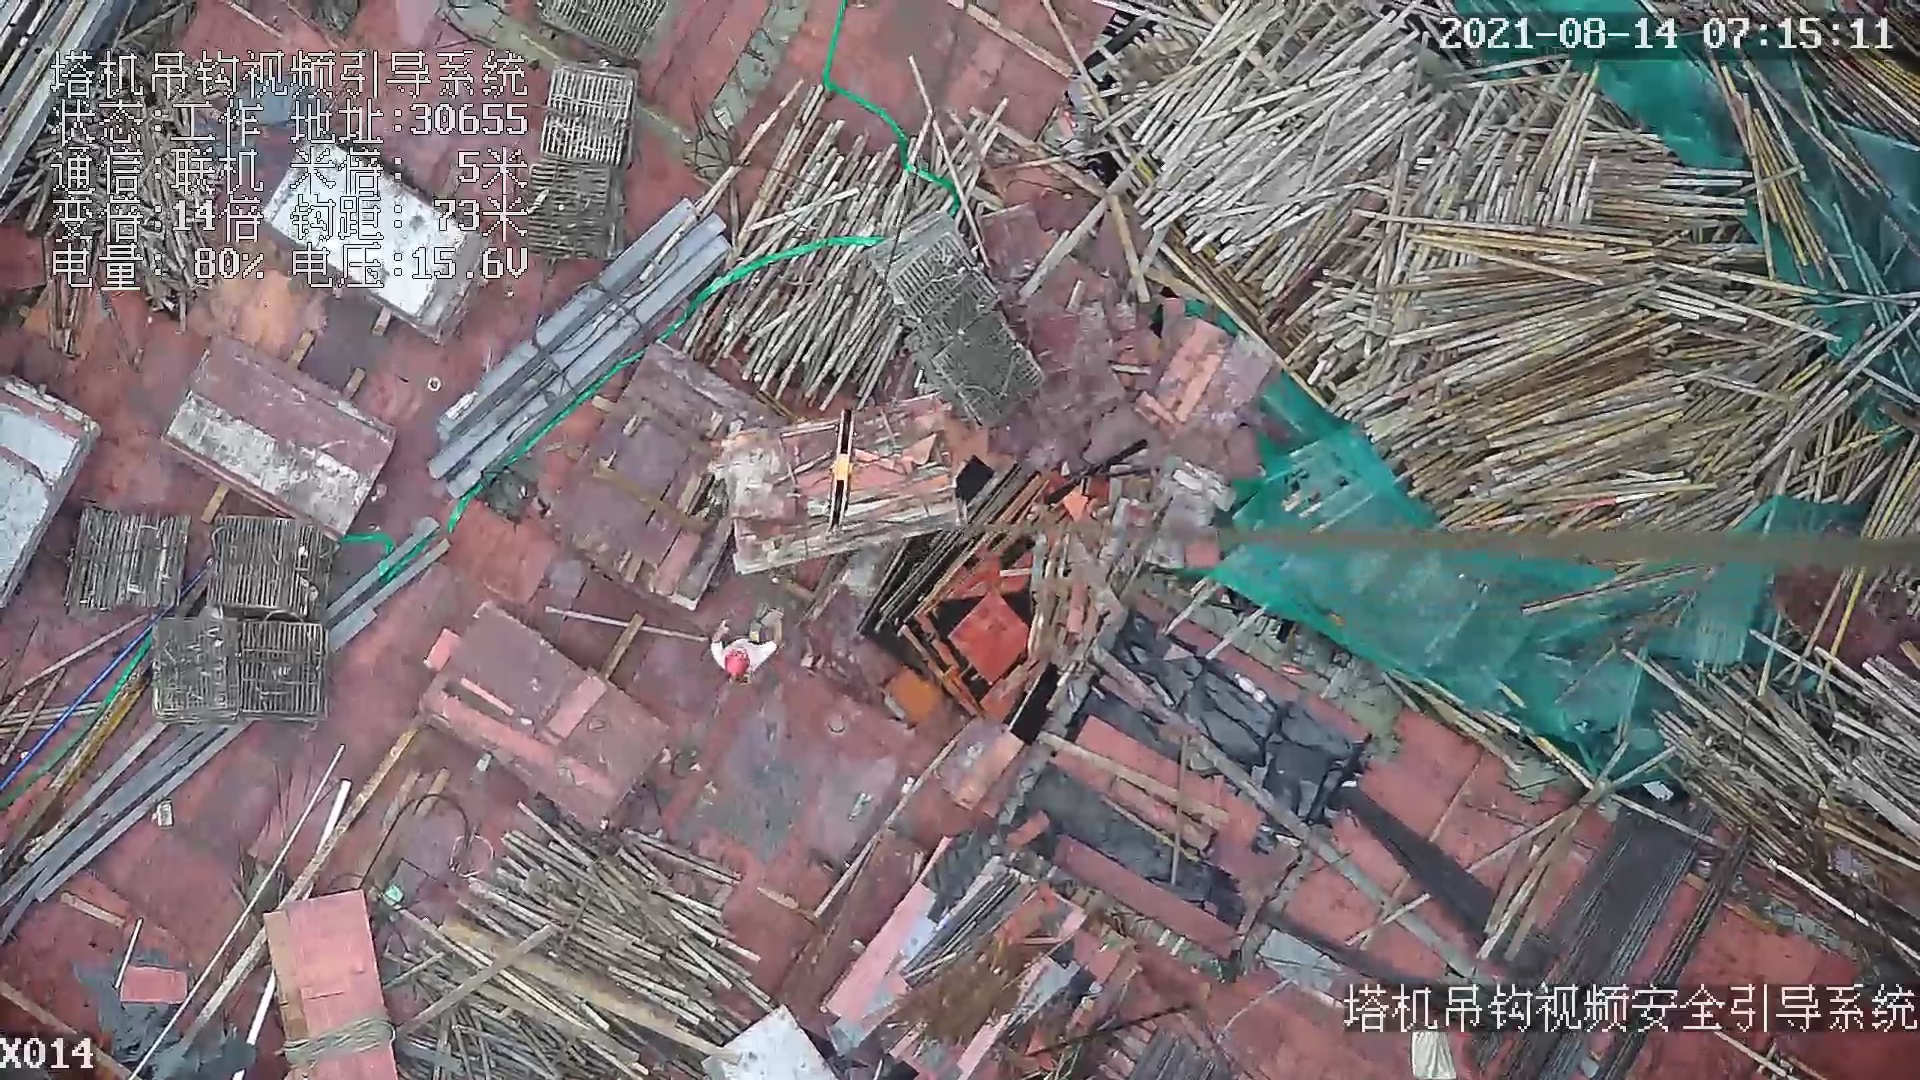helmet: (722, 652, 755, 680)
hook: (826, 403, 863, 533)
person: (692, 613, 797, 683)
